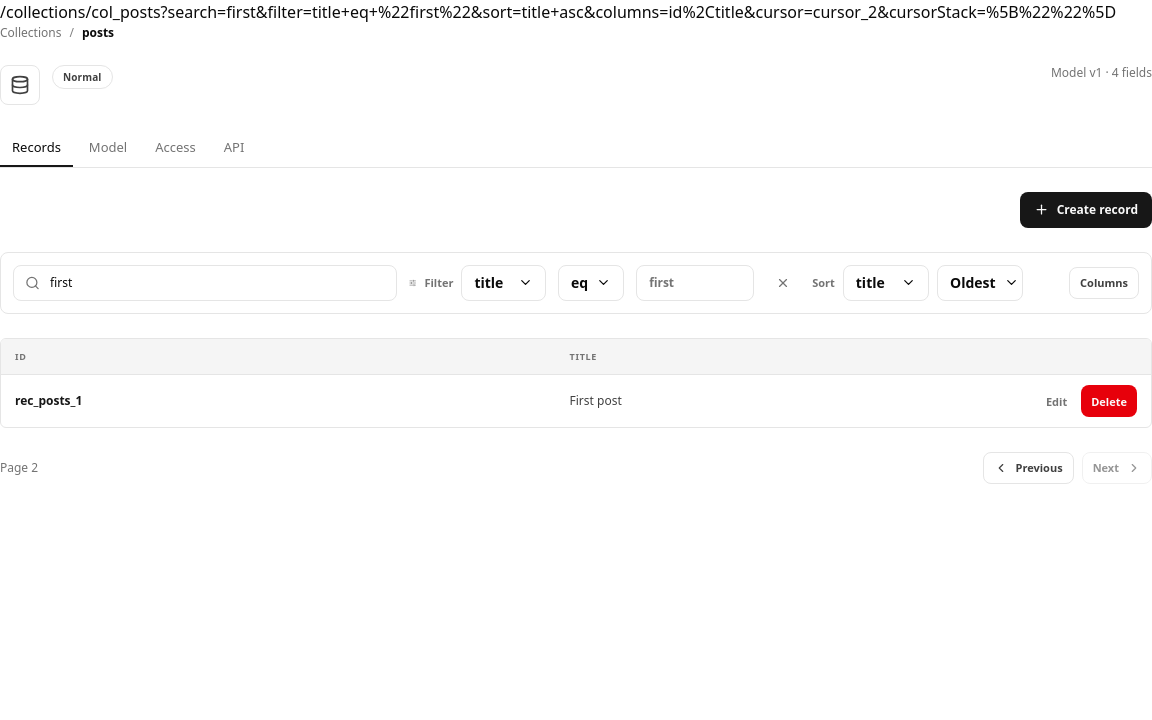
Collection Records and Security pages › keeps record search, filter, sort, columns, and cursor context when opening a deep-linked record
This screenshot has width=1152, height=720.
Step 1. Click the button "First post" → (596, 401), box [570, 393, 622, 409]
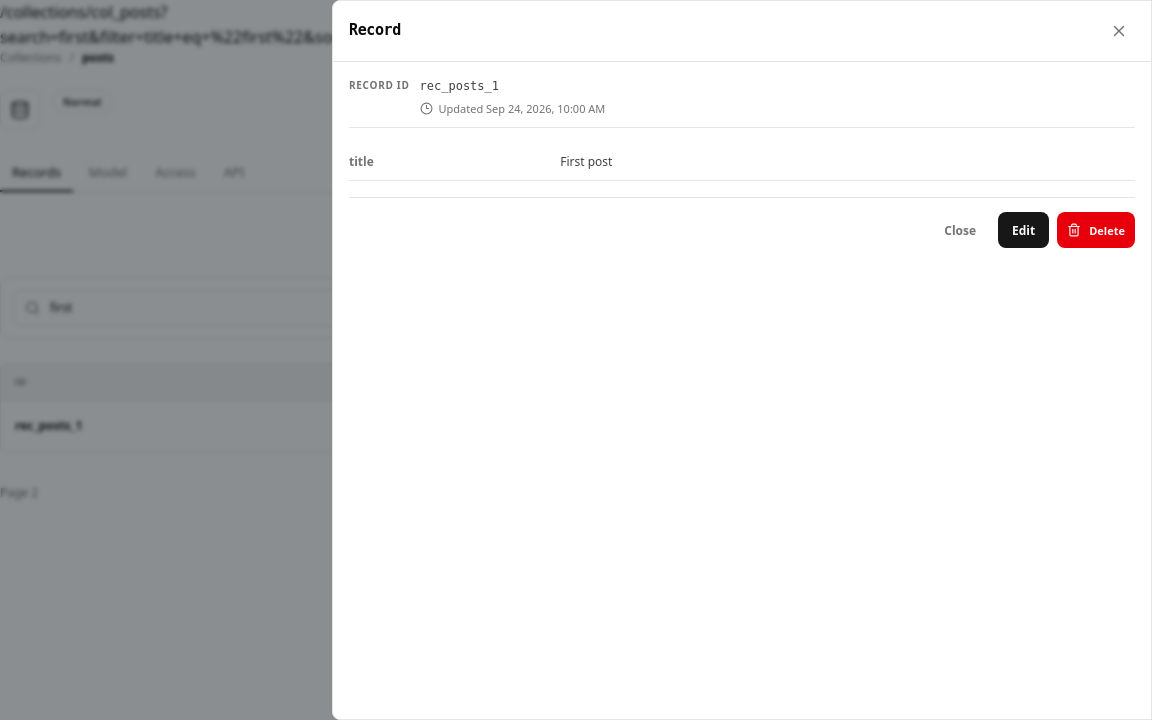
Expected: the text with test id "current-location" shows "search=first", [0, 1, 1105, 48]
Now the text "rec_posts_1" is shown, box [420, 79, 499, 93]
